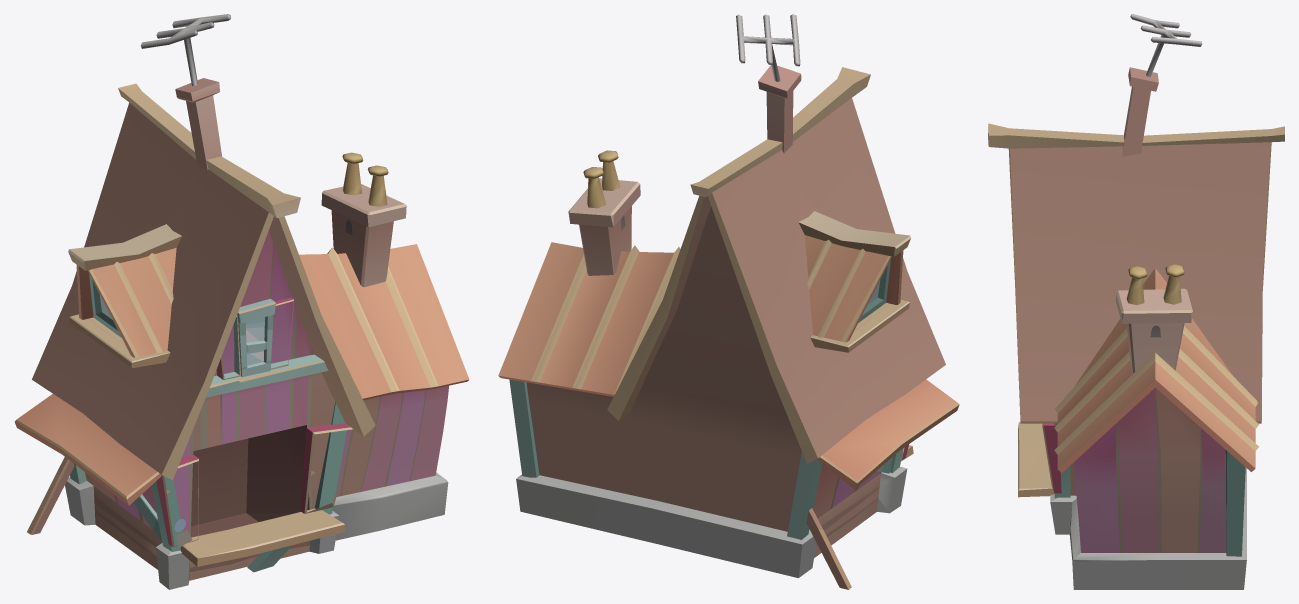
Rendered from RookieShop.glb.
3 renders of one model, left to right at view 1: azimuth 30°, elevation 25°; view 2: azimuth 150°, elevation 25°; view 3: azimuth 270°, elevation 25°, orthographic. The views are drawn at different scales.
Visible parts, largest first — view 1: RookieShop; view 2: RookieShop; view 3: RookieShop.
Boxes of the visible parts, x1,y1,x2,y2 form: RookieShop: (14,14,469,589); RookieShop: (498,14,959,589); RookieShop: (988,14,1284,589).
Size of the model in its own units: 5.07 by 7.01 by 3.94.
